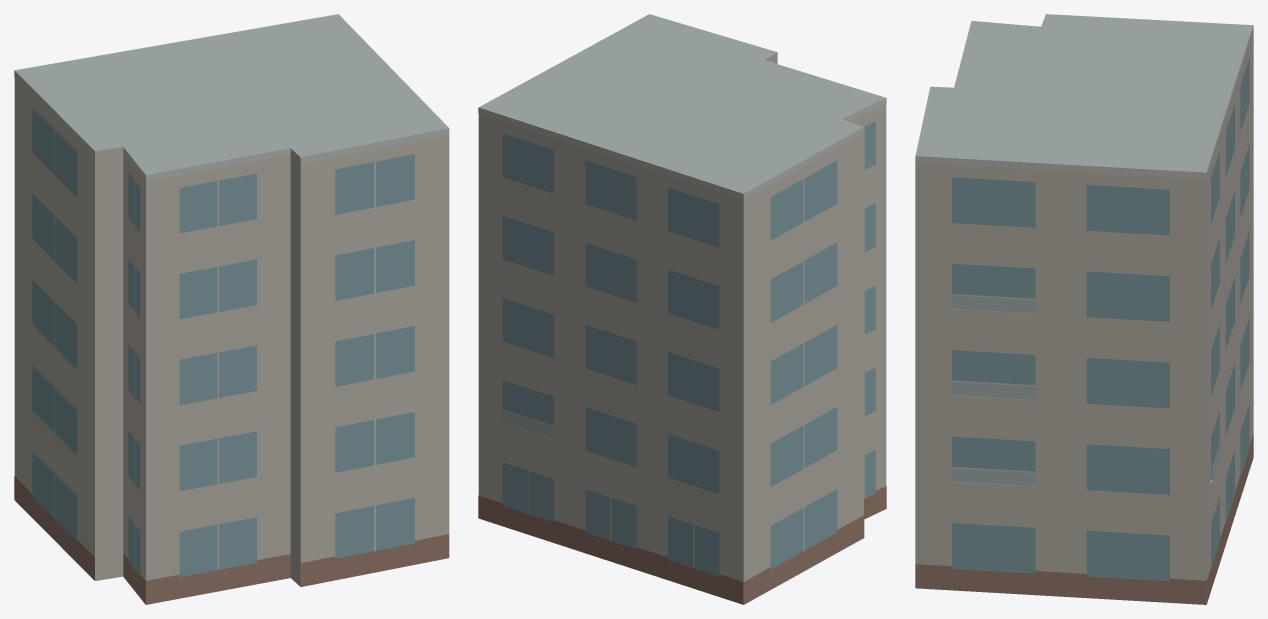
Rendered from survey-upis-32775318.glb.
3 views of the same model, side by side, from view 1: azimuth 30°, elevation 25°; view 2: azimuth 150°, elevation 25°; view 3: azimuth 270°, elevation 25° (orthographic). The views are drawn at different scales.
Visible parts, largest first — view 1: survey-upis-32775318.tmp; view 2: survey-upis-32775318.tmp; view 3: survey-upis-32775318.tmp.
Boxes of the visible parts, x1,y1,x2,y2 form: survey-upis-32775318.tmp: (14,14,449,604); survey-upis-32775318.tmp: (478,14,886,604); survey-upis-32775318.tmp: (915,14,1253,604).
Size of the model in its own units: 11.86 by 15.05 by 10.68.
